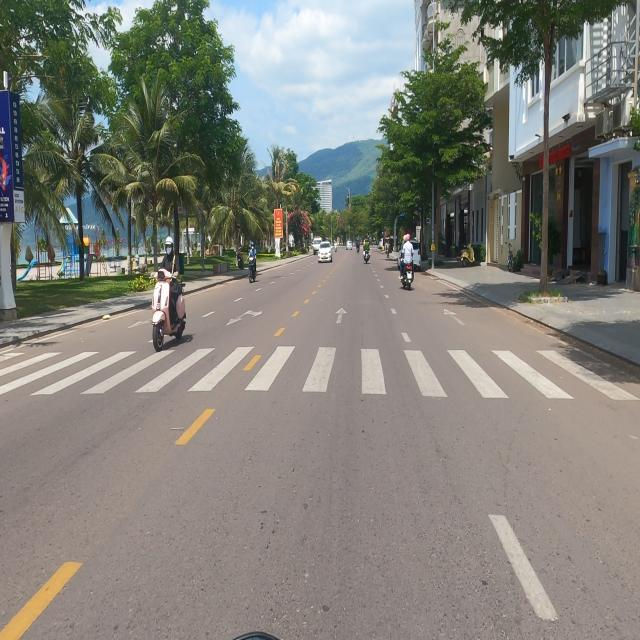walk-crossing: (0, 346, 640, 404)
